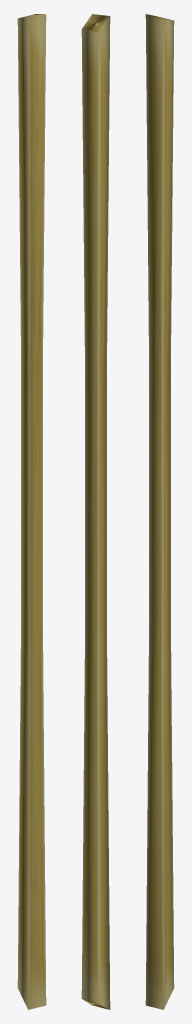
Rendered from assets_stick2.fbx.
The picture shows the model from 3 angles, left to right: view 1: azimuth 30°, elevation 25°; view 2: azimuth 150°, elevation 25°; view 3: azimuth 330°, elevation 25°; orthographic projection.
Parts seen in each view (by area): view 1: assets_stick2; view 2: assets_stick2; view 3: assets_stick2.
Boxes of the visible parts, x1,y1,x2,y2 form: assets_stick2: (17, 14, 46, 1009); assets_stick2: (81, 14, 110, 1009); assets_stick2: (145, 14, 174, 1009).
Bounding box in the file's own units: 0.2503 × 13.17 × 0.2503.
